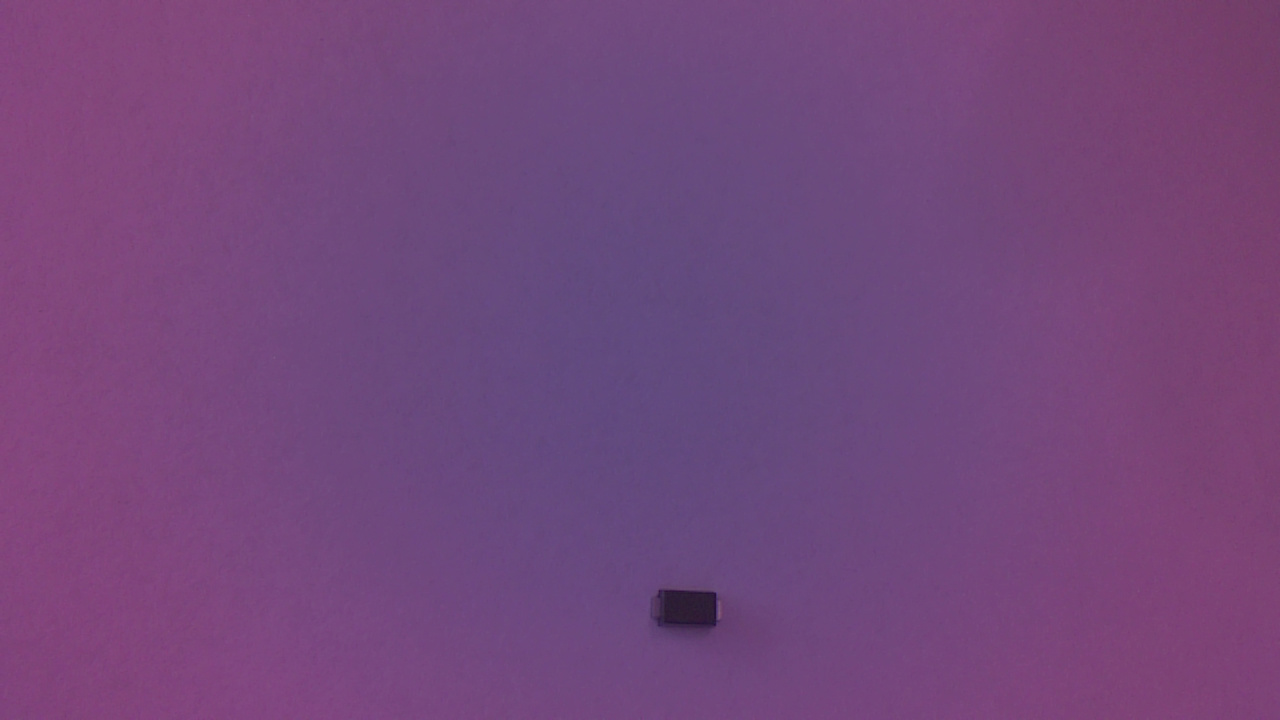Diode: (646, 590, 735, 643)
